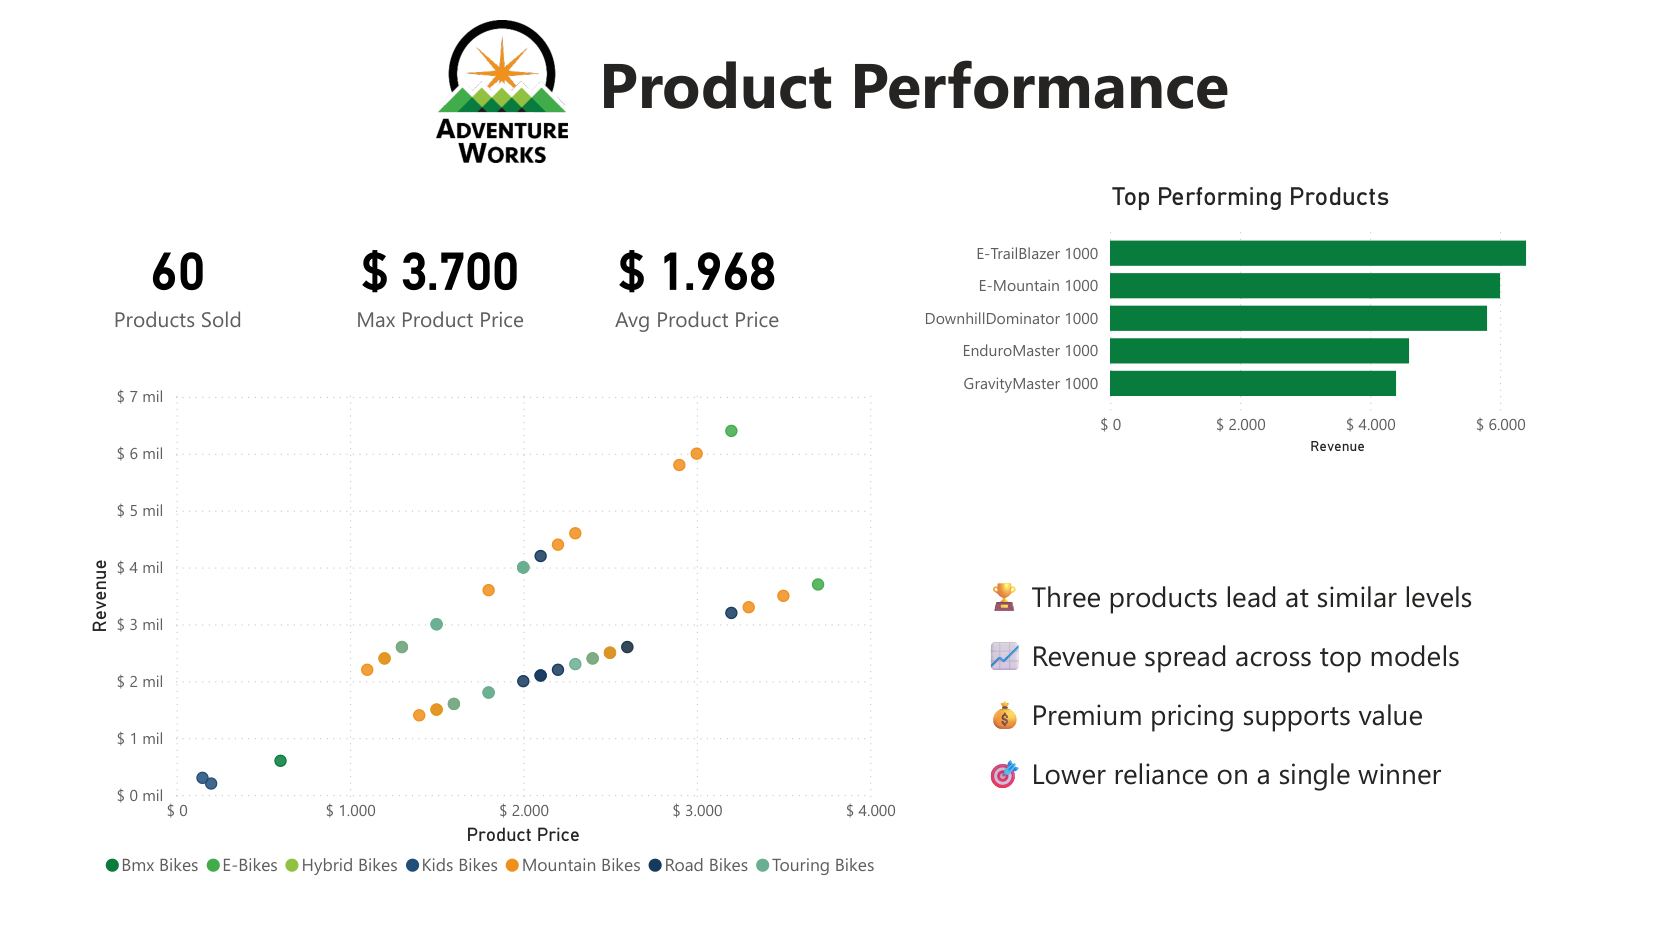

Layout of this report page (visuals, bound fields, positions):
{"tool":"powerbi","page":{"name":"Product Performance","canvas":[1280,720],"ordinal":2},"visuals":[{"type":"group","id":"g1","title":"Grupo 1","box":[325,16,629,108],"z":0},{"type":"textbox","box":[441,26,513,88],"z":0,"group":"g1"},{"type":"image","box":[325,16,116,108],"z":1000,"group":"g1"},{"type":"card","fields":{"Values":["Sales.Products Sold"]},"box":[38,139,196,150],"z":1000},{"type":"card","fields":{"Values":["Sales.Max Product Price"]},"box":[238,139,196,150],"z":2000},{"type":"card","fields":{"Values":["Sales.Avg Product Price"]},"box":[434,139,196,150],"z":3000},{"type":"clusteredBarChart","title":"Top Performing Products","fields":{"Category":["Sales.Product Name"],"Y":["Sales.Total Revenue"]},"box":[689,139,530,212],"z":4000},{"type":"textbox","box":[747,435,488,233],"z":5000},{"type":"scatterChart","fields":{"X":["Sum(Sales.Product Price)"],"Y":["Sales.Valid Revenue"],"Series":["Sales.Product Category"],"Category":["Sales.Product Name"]},"box":[63,289,626,390],"z":6000}]}

Visuals, with their boxes in screenshot pixels (x1, y1, x2, y2), scaled from the page's 1280x720 canvas onto the 1671x947 screenshot:
"Grupo 1" group: (left=424, top=21, right=1245, bottom=163)
textbox: (left=576, top=34, right=1245, bottom=150)
image: (left=424, top=21, right=576, bottom=163)
card - Sales.Products Sold: (left=50, top=183, right=305, bottom=380)
card - Sales.Max Product Price: (left=311, top=183, right=567, bottom=380)
card - Sales.Avg Product Price: (left=567, top=183, right=822, bottom=380)
"Top Performing Products" clusteredBarChart: (left=899, top=183, right=1591, bottom=462)
textbox: (left=975, top=572, right=1612, bottom=879)
scatterChart - Sum(Sales.Product Price) x Sales.Valid Revenue: (left=82, top=380, right=899, bottom=893)
